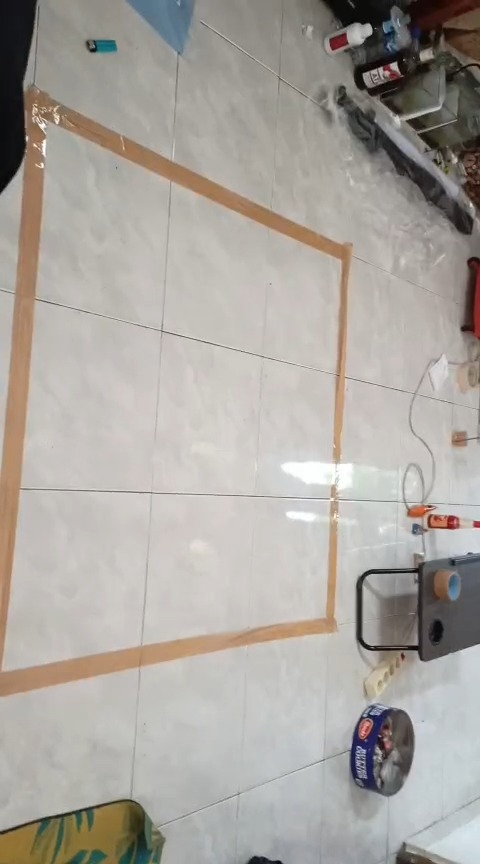floor marking: (0, 87, 350, 696)
